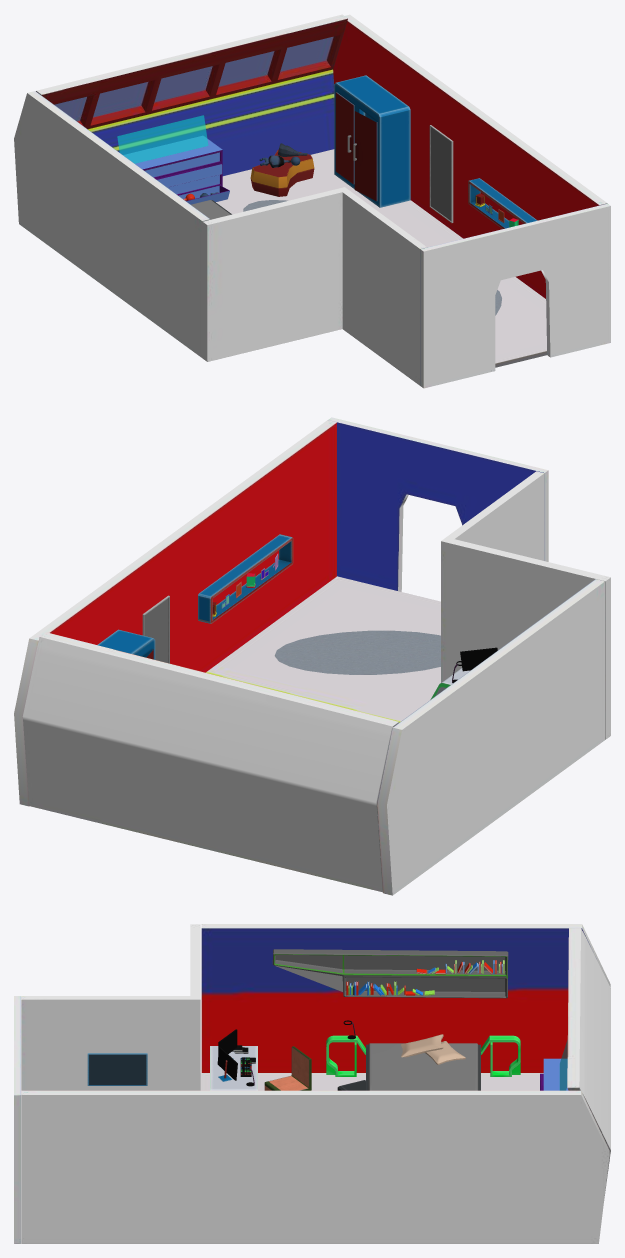
File: QUARTO2.fbx
3 renders of one model, top to bottom at view 1: azimuth 30°, elevation 25°; view 2: azimuth 150°, elevation 25°; view 3: azimuth 270°, elevation 25°, orthographic. The views are drawn at different scales.
Visible parts, largest first — view 1: Quarto_Robô:pCube19, group23_pasted__pCube5_pasted__polySurface73, polySurface189, pasted__pCube7, pasted__pCube15, pasted__pCube12, polySurface190; view 2: Quarto_Robô:pCube19, pasted__pDisc3, pasted__pCube12, pasted__pCube7, group23_pasted__pCube5_pasted__polySurface73; view 3: Quarto_Robô:pCube19, Quarto_Robô:quarto:Armario_Livros, pasted__polySurface66, pasted__pCube14, polySurface191, pasted__pCube10, pasted__pCube16, polySurface189, pasted__polySurface65, pasted__pCube19, pasted__polySurface67.
Part boxes in pixels (<box>): Quarto_Robô:pCube19: <box>14,14,610,388</box>; group23_pasted__pCube5_pasted__polySurface73: <box>334,75,410,207</box>; polySurface189: <box>117,115,229,204</box>; pasted__pCube7: <box>429,125,453,222</box>; pasted__pCube15: <box>250,149,314,196</box>; pasted__pCube12: <box>468,178,537,228</box>; polySurface190: <box>183,143,307,200</box>; Quarto_Robô:pCube19: <box>14,417,610,895</box>; pasted__pDisc3: <box>274,630,440,674</box>; pasted__pCube12: <box>198,534,293,623</box>; pasted__pCube7: <box>142,595,169,663</box>; group23_pasted__pCube5_pasted__polySurface73: <box>97,629,155,659</box>; Quarto_Robô:pCube19: <box>14,924,610,1243</box>; Quarto_Robô:quarto:Armario_Livros: <box>272,949,508,998</box>; pasted__polySurface66: <box>326,1035,520,1090</box>; pasted__pCube14: <box>87,1053,147,1085</box>; polySurface191: <box>346,960,504,995</box>; pasted__pCube10: <box>210,1046,257,1090</box>; pasted__pCube16: <box>264,1046,311,1090</box>; polySurface189: <box>540,1040,568,1090</box>; pasted__polySurface65: <box>401,1034,443,1057</box>; pasted__pCube19: <box>217,1047,237,1081</box>; pasted__polySurface67: <box>425,1041,465,1064</box>.
Size of the model in its own units: 39.36 by 16.33 by 58.12.
24 materials, 22 textured.
